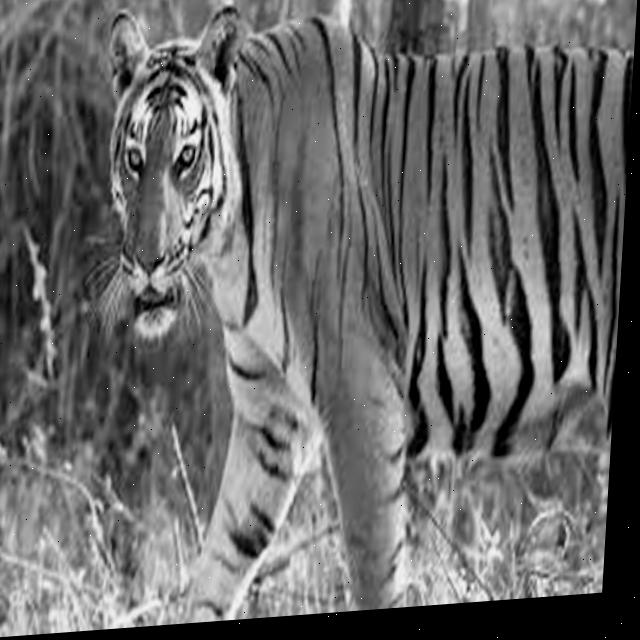Tiger: (66, 0, 638, 631)
